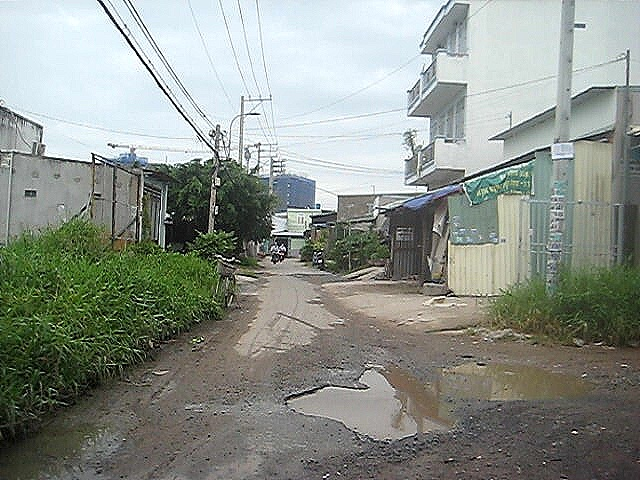hole: (285, 354, 447, 445), (449, 351, 611, 427), (286, 273, 325, 279)
